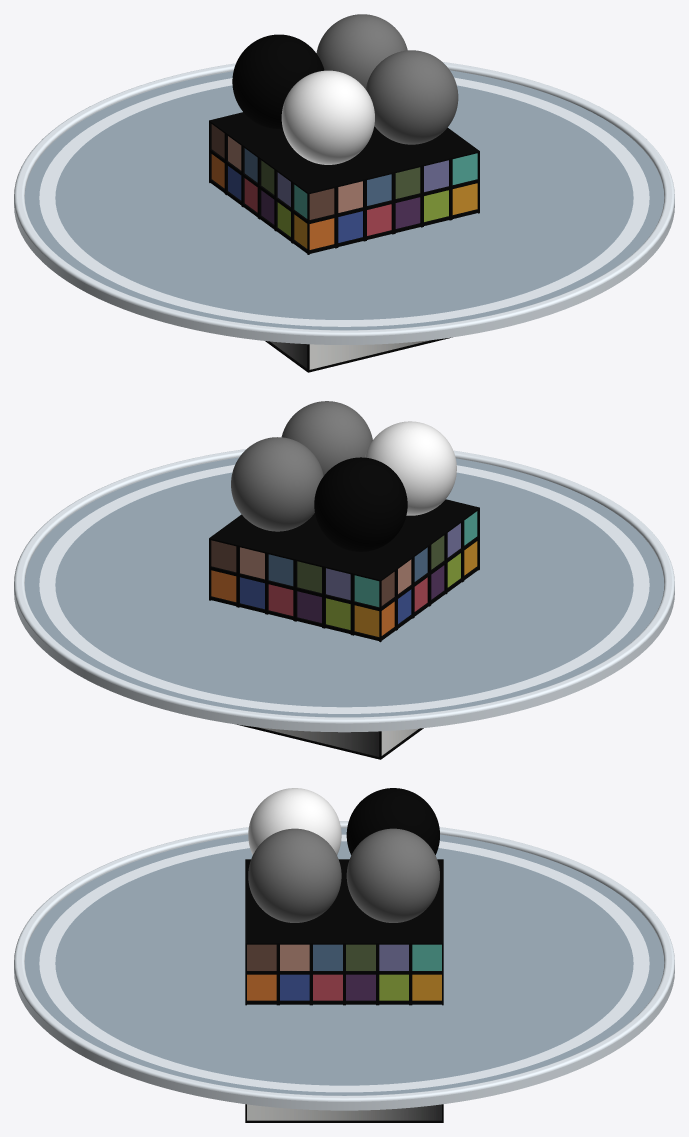
The model's file is rendertest3.glb.
3 renders of one model, top to bottom at view 1: azimuth 30°, elevation 25°; view 2: azimuth 150°, elevation 25°; view 3: azimuth 270°, elevation 25°, orthographic.
Visible parts, largest first — view 1: SM_Floor_Disk, SM_ColorCalibrator; view 2: SM_Floor_Disk, SM_ColorCalibrator; view 3: SM_Floor_Disk, SM_ColorCalibrator.
Boxes of the visible parts, bbox=[...] form: SM_Floor_Disk: bbox=[14, 62, 674, 344]; SM_ColorCalibrator: bbox=[209, 14, 479, 372]; SM_Floor_Disk: bbox=[14, 449, 674, 732]; SM_ColorCalibrator: bbox=[209, 401, 479, 759]; SM_Floor_Disk: bbox=[14, 821, 674, 1110]; SM_ColorCalibrator: bbox=[245, 788, 443, 1122].
Bounding box in the file's own units: 30 × 13.45 × 30.
Materials: 7 (1 with a texture image).
